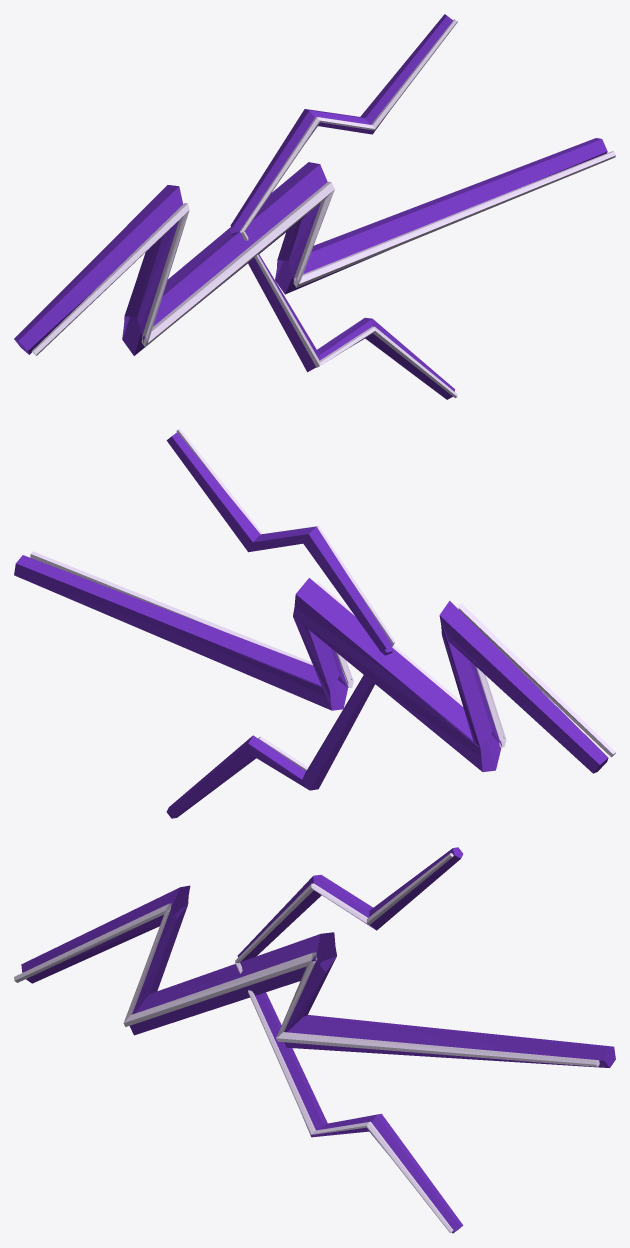
Rendered from VFX_57_FulmineLanciaRamificata.fbx.
The picture shows the model from 3 angles, top to bottom: view 1: azimuth 30°, elevation 25°; view 2: azimuth 150°, elevation 25°; view 3: azimuth 330°, elevation 25°; orthographic projection.
Parts seen in each view (by area): view 1: VFX_57_FulmineLanciaRamificata; view 2: VFX_57_FulmineLanciaRamificata; view 3: VFX_57_FulmineLanciaRamificata.
Part boxes in pixels (left/top/right/bottom): VFX_57_FulmineLanciaRamificata: left=14, top=14, right=615, bottom=399; VFX_57_FulmineLanciaRamificata: left=14, top=428, right=615, bottom=818; VFX_57_FulmineLanciaRamificata: left=14, top=847, right=615, bottom=1233.
Size of the model in its own units: 425 by 266 by 31.01.
Materials: 1 (1 with a texture image).
